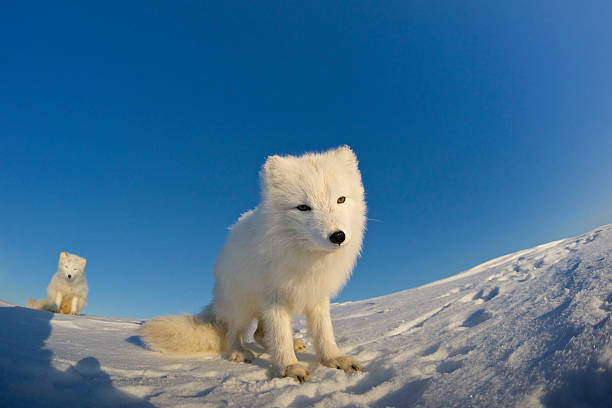arcticfox: (276, 168, 368, 263)
